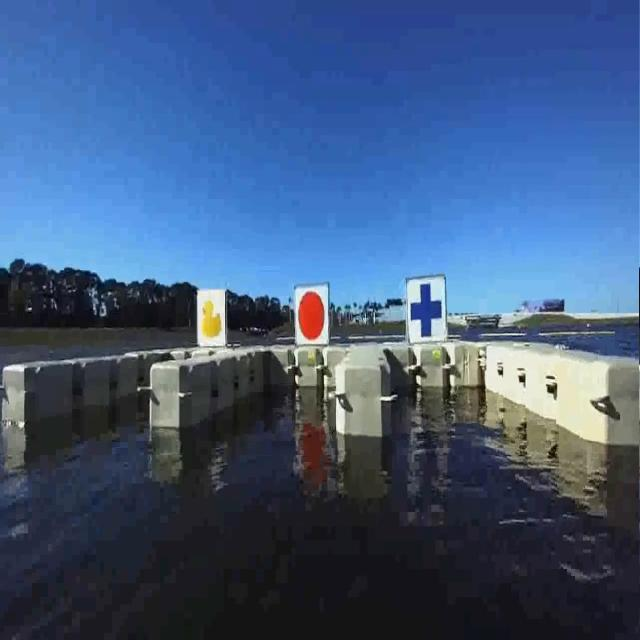blue-cross: (407, 274, 446, 338)
red-dot: (292, 278, 330, 343)
yellow-duck: (199, 289, 227, 352)
